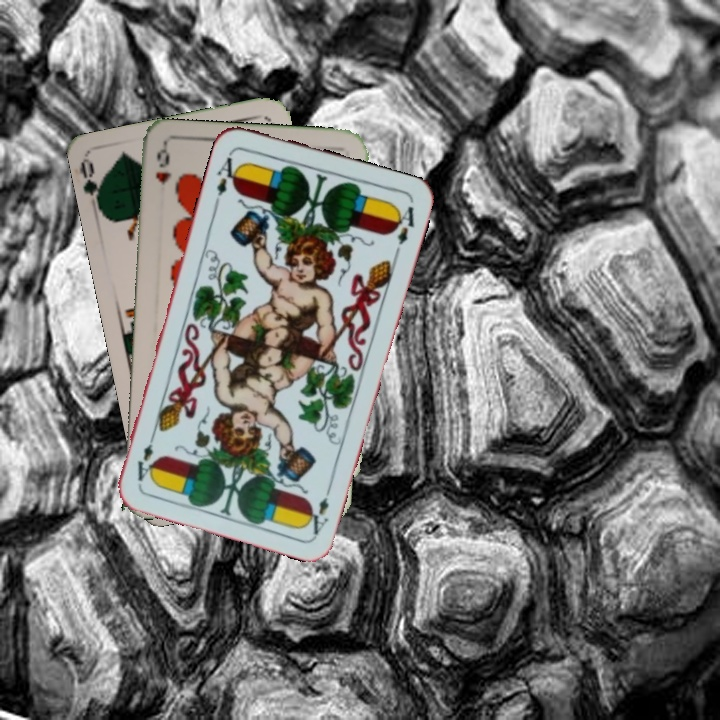EA: (302, 480, 335, 538), (212, 148, 243, 199)
GO: (76, 157, 107, 216)
H9: (152, 144, 174, 188)
